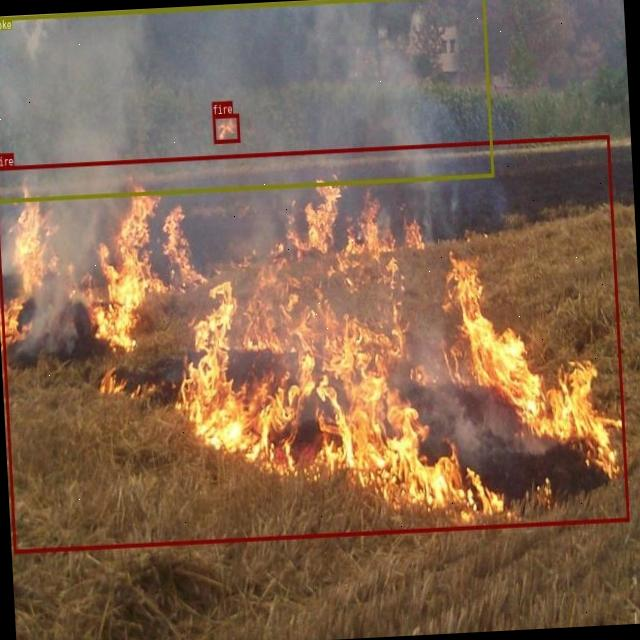fire: (0, 134, 628, 553), (213, 113, 240, 143)
smoke: (0, 0, 493, 203)
